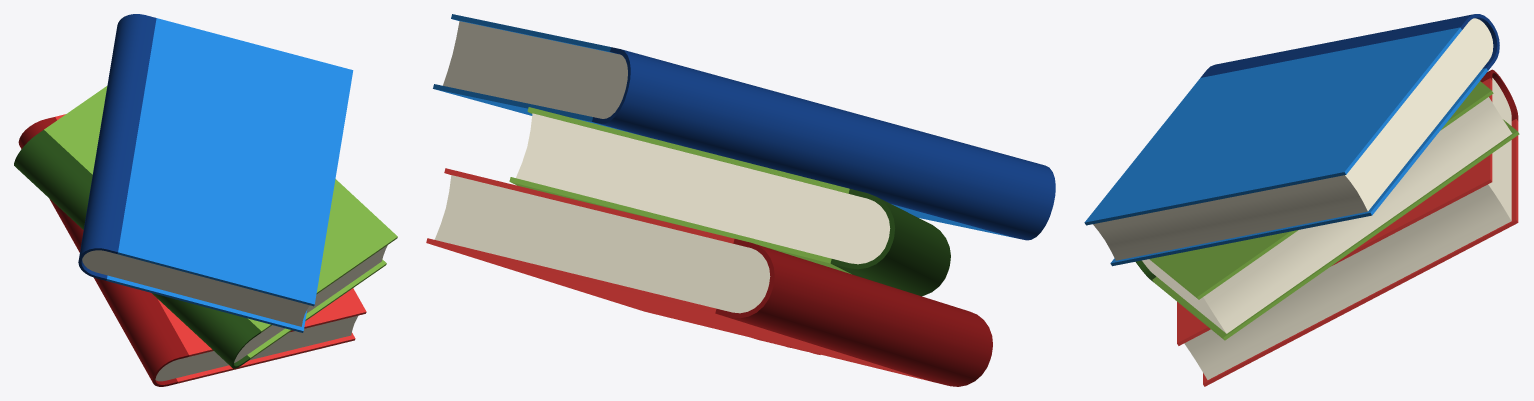
Rendered from books.glb.
3 views of the same model, side by side, from view 1: azimuth 30°, elevation 25°; view 2: azimuth 150°, elevation 25°; view 3: azimuth 270°, elevation 25° (orthographic). The views are drawn at different scales.
Parts seen in each view (by area): view 1: Cube.951; view 2: Cube.951; view 3: Cube.951.
Boxes of the visible parts, x1,y1,x2,y2 form: Cube.951: [14, 14, 397, 386]; Cube.951: [426, 14, 1055, 386]; Cube.951: [1084, 14, 1519, 386].
Bounding box in the file's own units: 2.27 × 1.8 × 2.27.
1 material, 1 textured.
